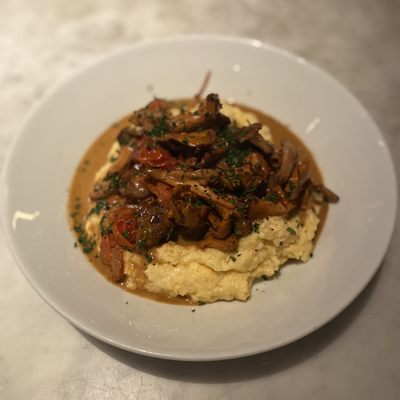curry: (0, 6, 387, 389)
